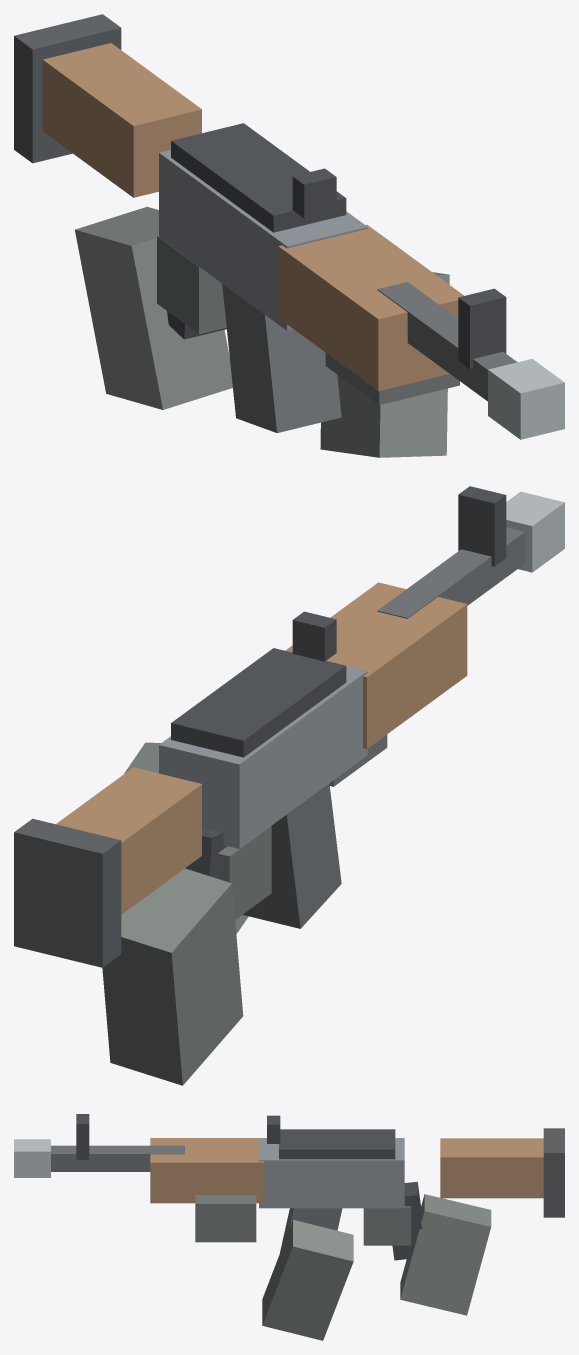
The picture shows the model from 3 angles, top to bottom: view 1: azimuth 30°, elevation 25°; view 2: azimuth 150°, elevation 25°; view 3: azimuth 270°, elevation 25°; orthographic projection. The views are drawn at different scales.
Visible parts, largest first — view 1: Handguard, RightSleeve, Stock, Receiver, Magazine, TopCover, LeftSleeve, StockButt, MuzzleBrake, Barrel, RightHand, FrontSight (+2 smaller); view 2: RightSleeve, Receiver, StockButt, Handguard, Stock, TopCover, Magazine, Barrel, MuzzleBrake, FrontSight, RightHand, RearSight (+2 smaller); view 3: LeftSleeve, RightSleeve, Receiver, Handguard, Stock, TopCover, LeftHand, Barrel, StockButt, RightHand, MuzzleBrake, Grip (+3 smaller).
Part boxes in pixels (x1=…): Handguard: x1=278, y1=224, x2=463, y2=391; RightSleeve: x1=75, y1=206, x2=232, y2=409; Stock: x1=42, y1=43, x2=201, y2=197; Receiver: x1=159, y1=150, x2=367, y2=330; Magazine: x1=222, y1=283, x2=341, y2=433; TopCover: x1=171, y1=123, x2=346, y2=232; LeftSleeve: x1=320, y1=272, x2=449, y2=457; StockButt: x1=14, y1=14, x2=121, y2=163; MuzzleBrake: x1=488, y1=358, x2=564, y2=439; Barrel: x1=377, y1=282, x2=517, y2=401; RightHand: x1=157, y1=235, x2=226, y2=334; FrontSight: x1=458, y1=288, x2=506, y2=368; RightSleeve: x1=102, y1=868, x2=243, y2=1085; Receiver: x1=159, y1=651, x2=367, y2=848; StockButt: x1=14, y1=818, x2=121, y2=967; Handguard: x1=285, y1=582, x2=467, y2=748; Stock: x1=56, y1=767, x2=201, y2=914; TopCover: x1=171, y1=648, x2=346, y2=757; Magazine: x1=242, y1=783, x2=341, y2=928; Barrel: x1=377, y1=527, x2=525, y2=618; MuzzleBrake: x1=506, y1=491, x2=564, y2=572; FrontSight: x1=458, y1=486, x2=506, y2=566; RightHand: x1=217, y1=826, x2=271, y2=919; RearSight: x1=292, y1=611, x2=336, y2=661; LeftSleeve: x1=262, y1=1220, x2=353, y2=1340; RightSleeve: x1=400, y1=1194, x2=491, y2=1315; Receiver: x1=259, y1=1138, x2=404, y2=1208; Handguard: x1=150, y1=1138, x2=264, y2=1203; Stock: x1=440, y1=1138, x2=543, y2=1198; TopCover: x1=279, y1=1129, x2=395, y2=1159; LeftHand: x1=195, y1=1195, x2=256, y2=1242; Barrel: x1=51, y1=1145, x2=184, y2=1171; StockButt: x1=543, y1=1128, x2=564, y2=1217; RightHand: x1=363, y1=1206, x2=411, y2=1245; MuzzleBrake: x1=14, y1=1139, x2=50, y2=1177; Grip: x1=392, y1=1181, x2=421, y2=1260.
Bounding box in the file's own units: 0.5019 × 0.7922 × 2.08.
